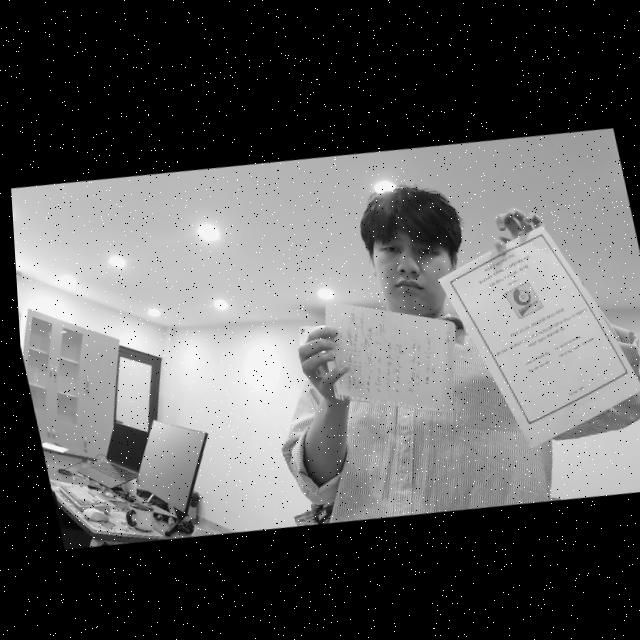document: (438, 226, 640, 449), (325, 302, 455, 413)
face: (362, 220, 455, 319)
